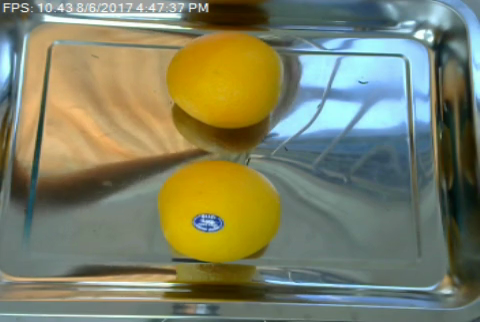Orange: (157, 158, 280, 261), (166, 32, 286, 128)
